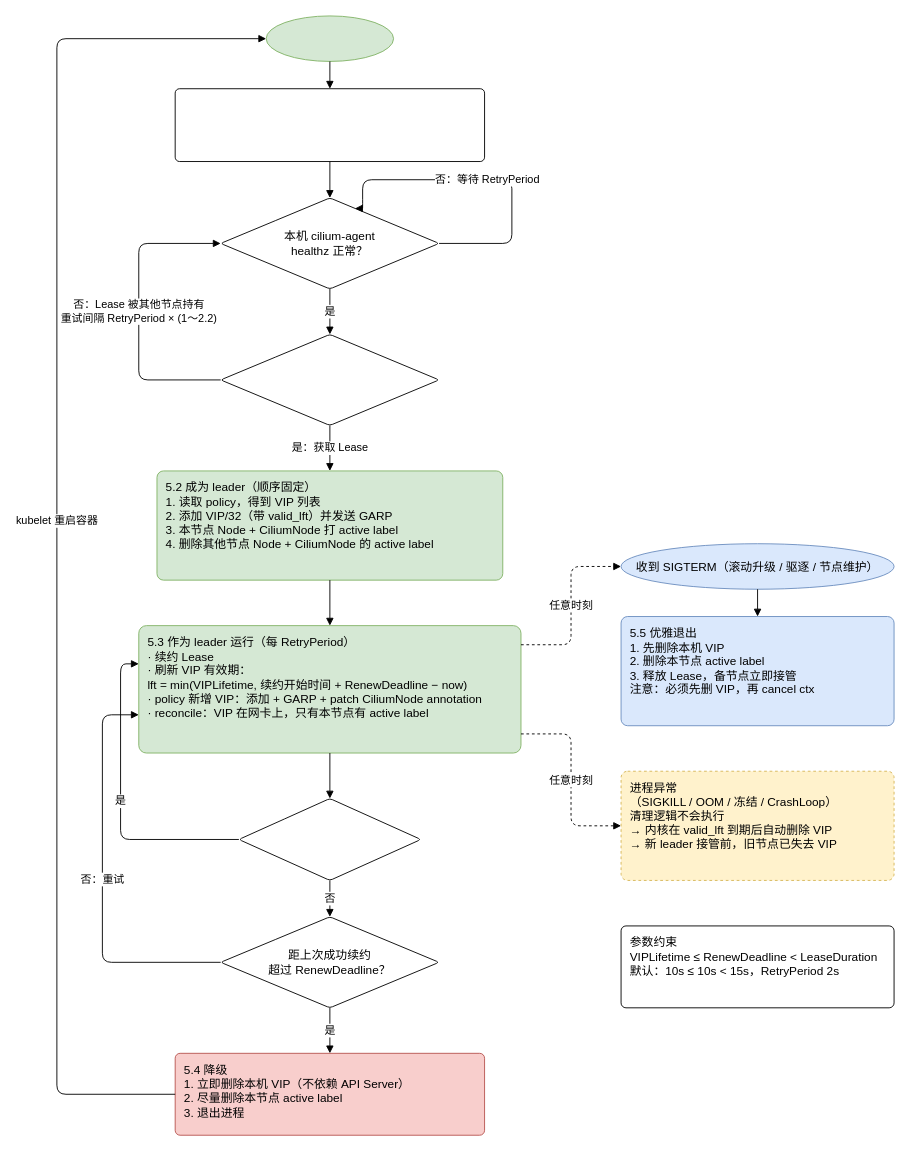
This 910x1151 diagram has some shape labels left out. The centre of each missing label's shape, as x and y in pixels:
"5.1 启动清理 · 按 label eth0:egw 删除本机所有 VIP · 删除本节点 Node / CiliumNode 的 active label" belongs at point 329,125.
"Lease 无人持有 或已过期？" belongs at point 329,379.
"Pod 启动" belongs at point 329,38.
"续约成功？" belongs at point 329,839.
